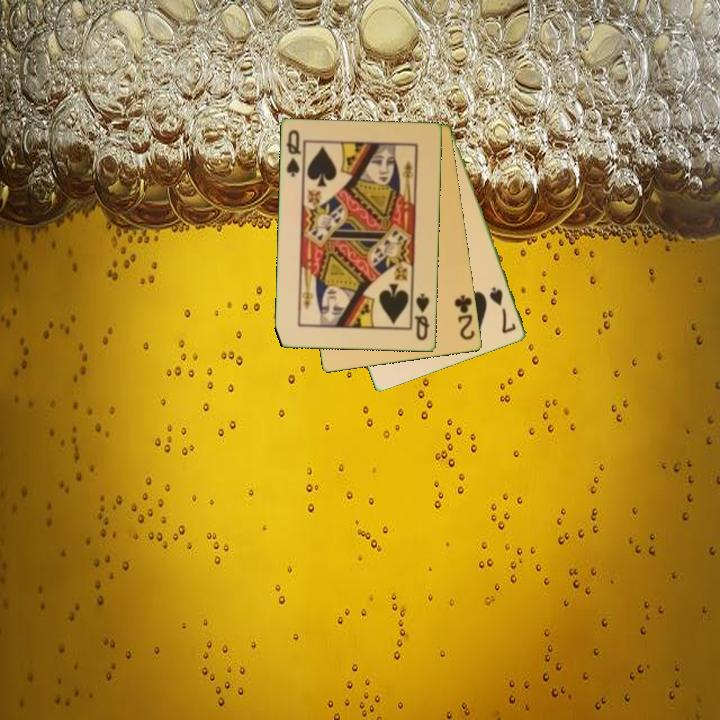2c: (451, 292, 478, 343)
7s: (486, 284, 519, 337)
Qs: (283, 126, 306, 181), (411, 290, 433, 344)
